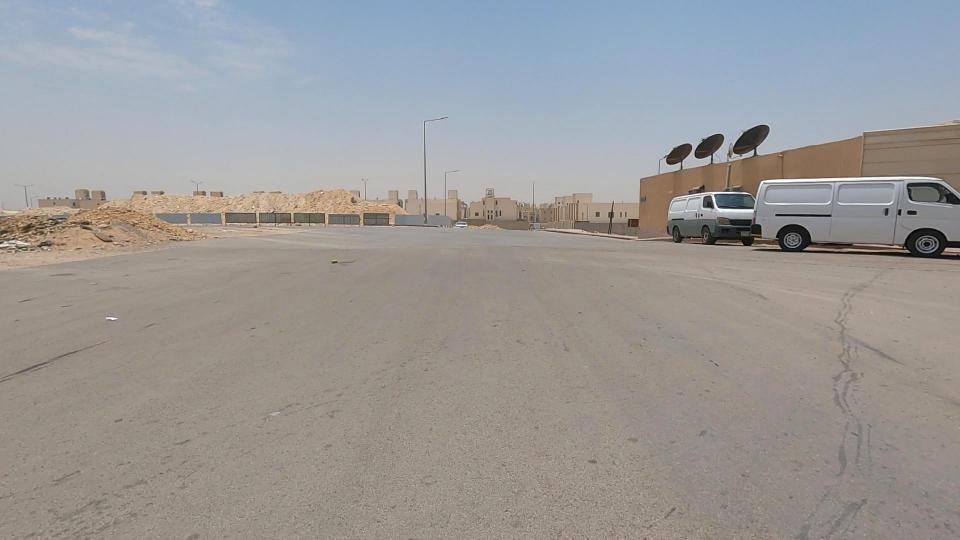GARBAGE: (37, 198, 148, 266), (0, 216, 70, 279), (27, 198, 83, 245)
